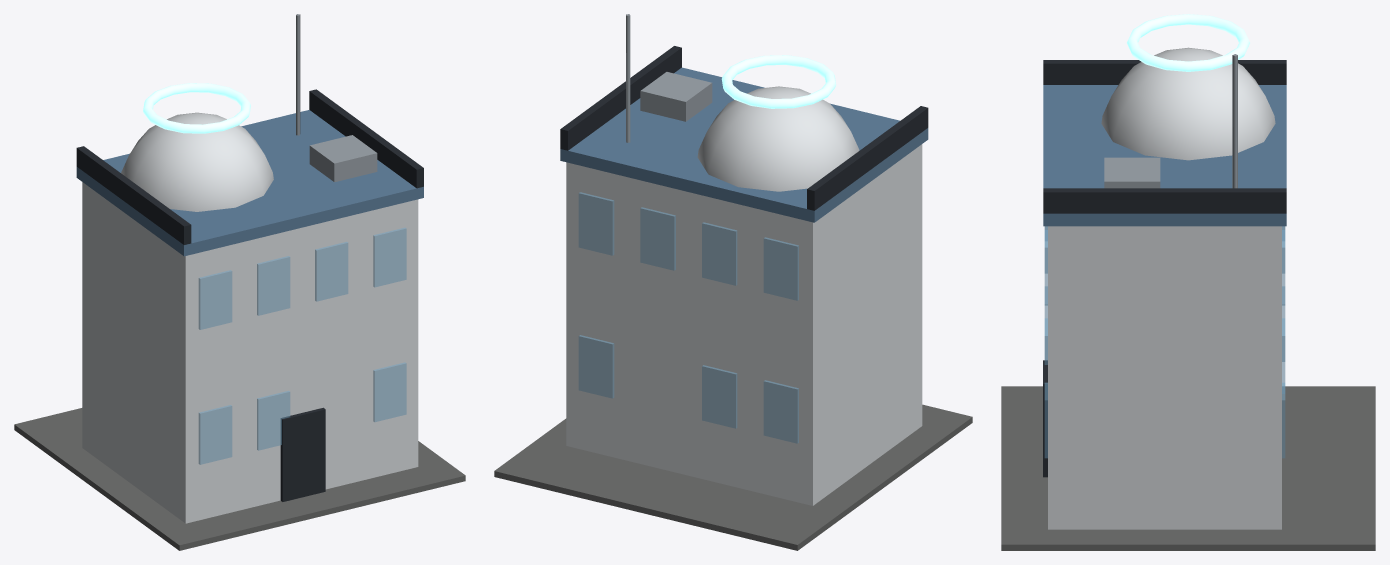
Rendered from bld_special_laboratory_a09.glb.
3 renders of one model, left to right at view 1: azimuth 30°, elevation 25°; view 2: azimuth 150°, elevation 25°; view 3: azimuth 270°, elevation 25°, orthographic. The views are drawn at different scales.
Visible parts, largest first — view 1: body; view 2: body; view 3: body.
Boxes of the visible parts, x1,y1,x2,y2 form: body: (14,14,465,550); body: (494,14,972,550); body: (1001,14,1375,550).
Size of what is drawn, in the model's own units: 8 by 10.85 by 8.
